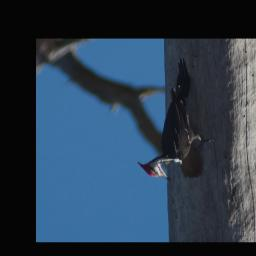Woodpecker: (137, 58, 216, 182)
